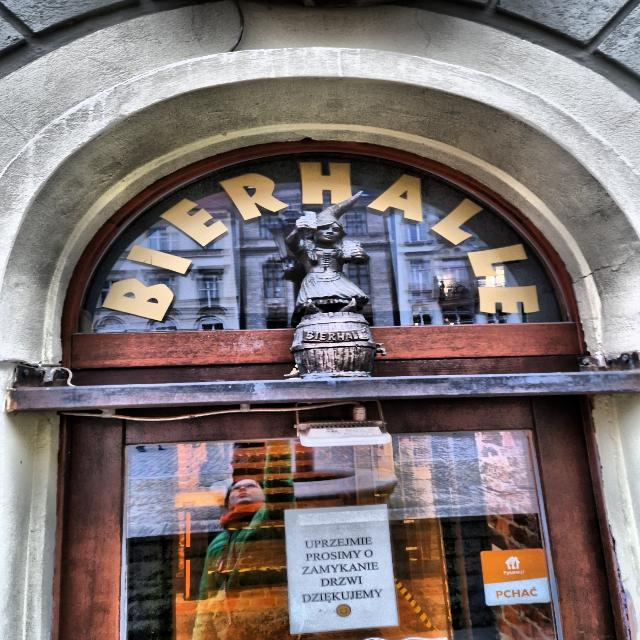Bawarka: (285, 191, 385, 379)
